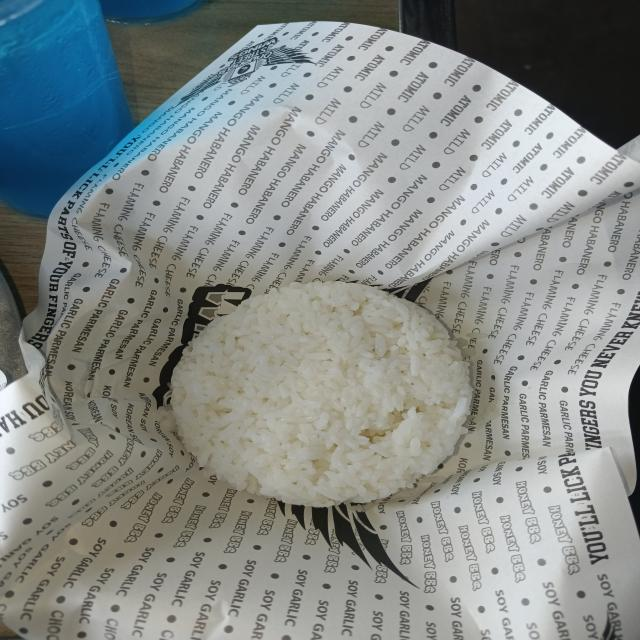Chicken -Chicken Inasal-: (170, 292, 490, 500)
